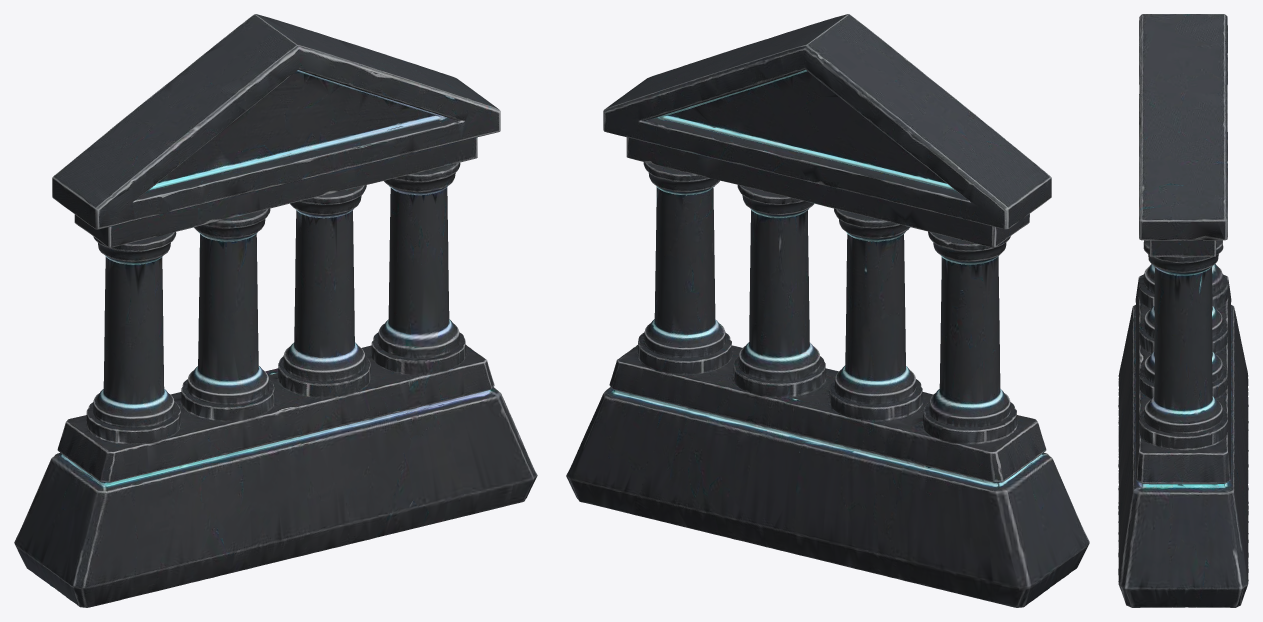
Rendered from exchange.glb.
3 views of the same model, side by side, from view 1: azimuth 30°, elevation 25°; view 2: azimuth 150°, elevation 25°; view 3: azimuth 270°, elevation 25° (orthographic). The views are drawn at different scales.
Size of the model in its own units: 1.83 by 1.9 by 0.4579.
1 material, 1 textured.
